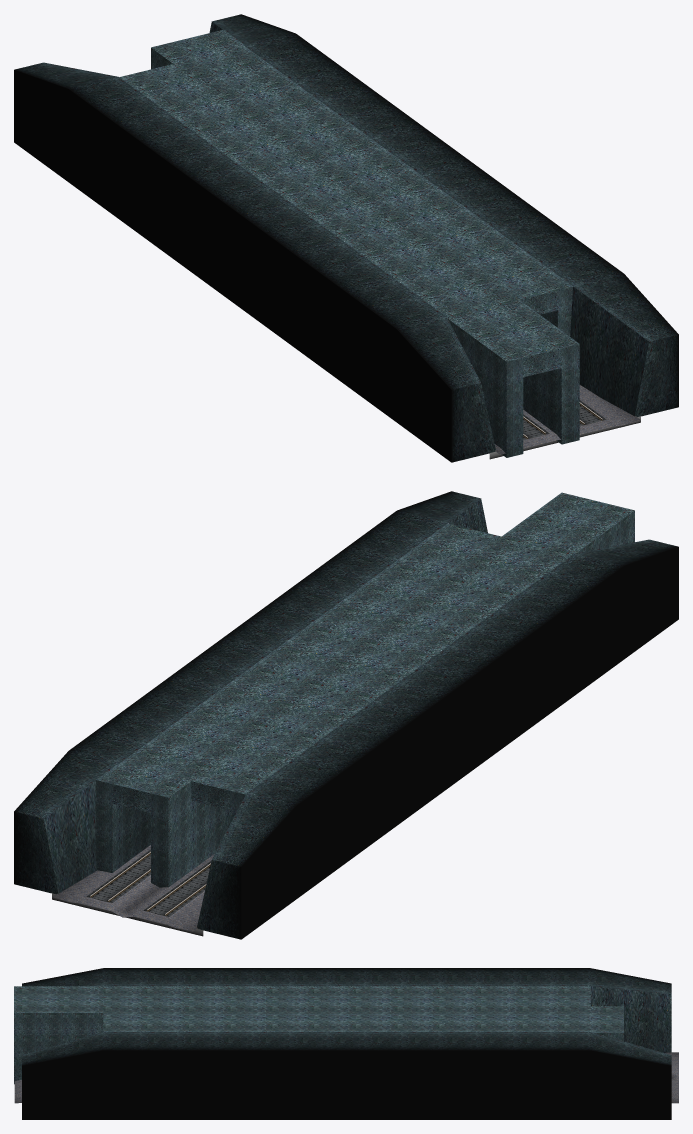
File: 2RAIL_KYO_4.glb
3 views of the same model, one above another, from view 1: azimuth 30°, elevation 25°; view 2: azimuth 150°, elevation 25°; view 3: azimuth 270°, elevation 25° (orthographic). The views are drawn at different scales.
Parts seen in each view (by area): view 1: frame01; view 2: frame01; view 3: frame01.
Boxes of the visible parts, x1,y1,x2,y2 form: frame01: (14,14,678,462); frame01: (14,491,678,939); frame01: (14,968,678,1119).
Size of the model in its own units: 60 by 25.08 by 205.
5 materials, 4 textured.
